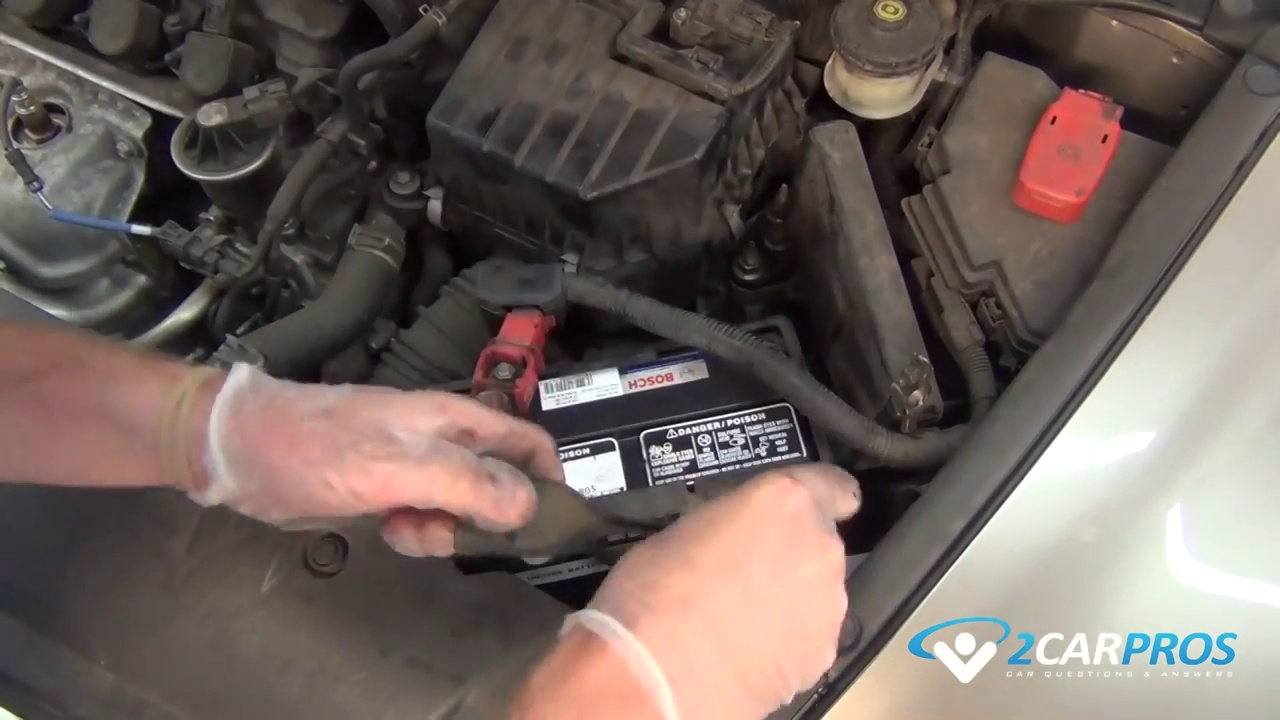battery: (458, 337, 855, 582)
pos_touched: (457, 294, 568, 498)
